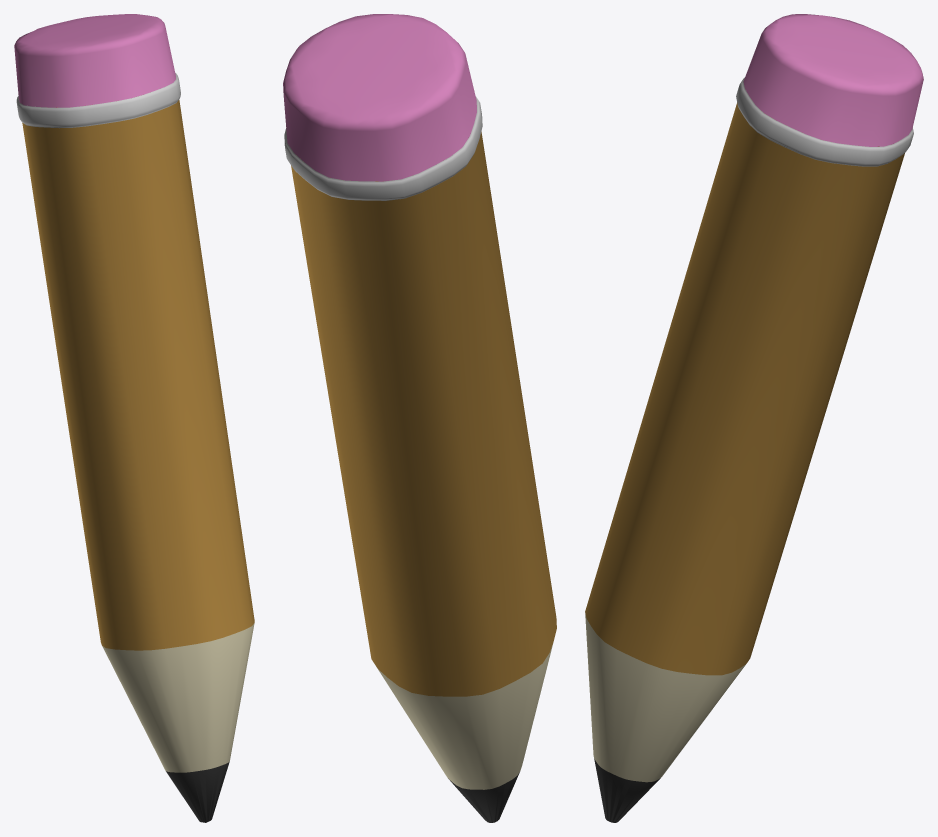
Rendered from PencilAnimationCompressed.gltf.
3 renders of one model, left to right at view 1: azimuth 30°, elevation 25°; view 2: azimuth 150°, elevation 25°; view 3: azimuth 270°, elevation 25°, orthographic. The views are drawn at different scales.
Visible parts, largest first — view 1: Pencil; view 2: Pencil; view 3: Pencil.
Boxes of the visible parts, x1,y1,x2,y2 form: Pencil: [14, 14, 254, 822]; Pencil: [283, 14, 556, 822]; Pencil: [585, 14, 923, 822].
Size of the model in its own units: 1.43 by 6.75 by 2.64.
